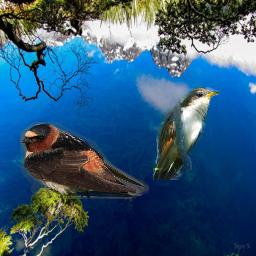Cuckoo: (153, 87, 220, 180)
Swallow: (20, 122, 149, 199)
